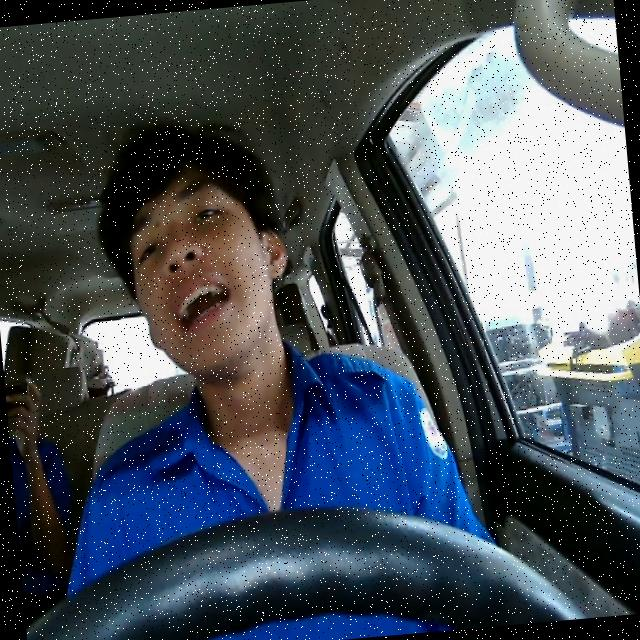yarning: (123, 164, 295, 383)
